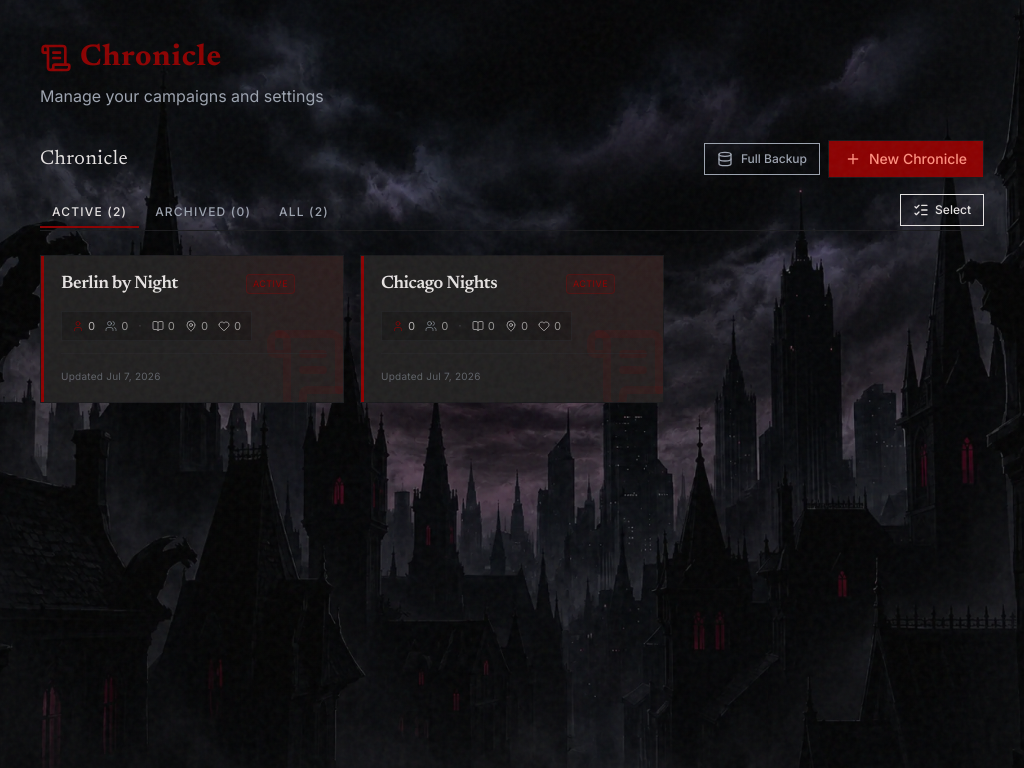
Test case: Chronicle list — bulk selection (Batch AB) › uses the compact "Actions" dropdown on phone-width viewports
The width and height of the screenshot is (1024, 768).
Click the button "Select". click: point(942, 210)
box: left=900, top=194, right=984, bottom=226
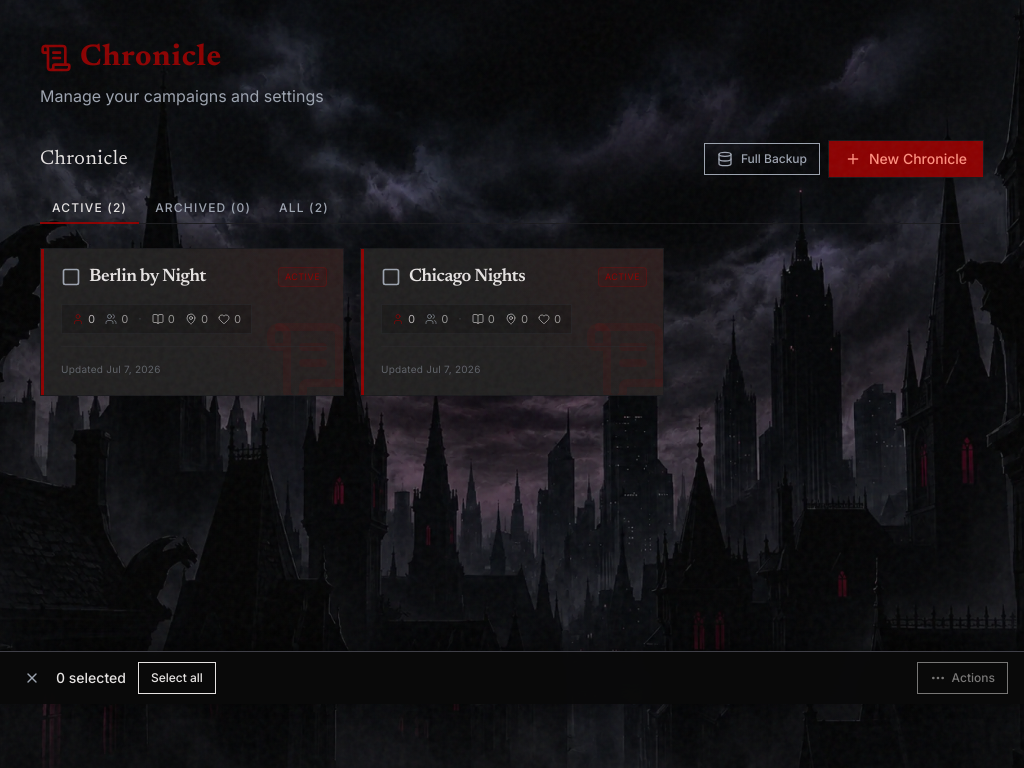
Result: the button "Actions" is shown at left=917, top=662, right=1008, bottom=694
Result: the button "Select all" is shown at left=138, top=662, right=216, bottom=694
